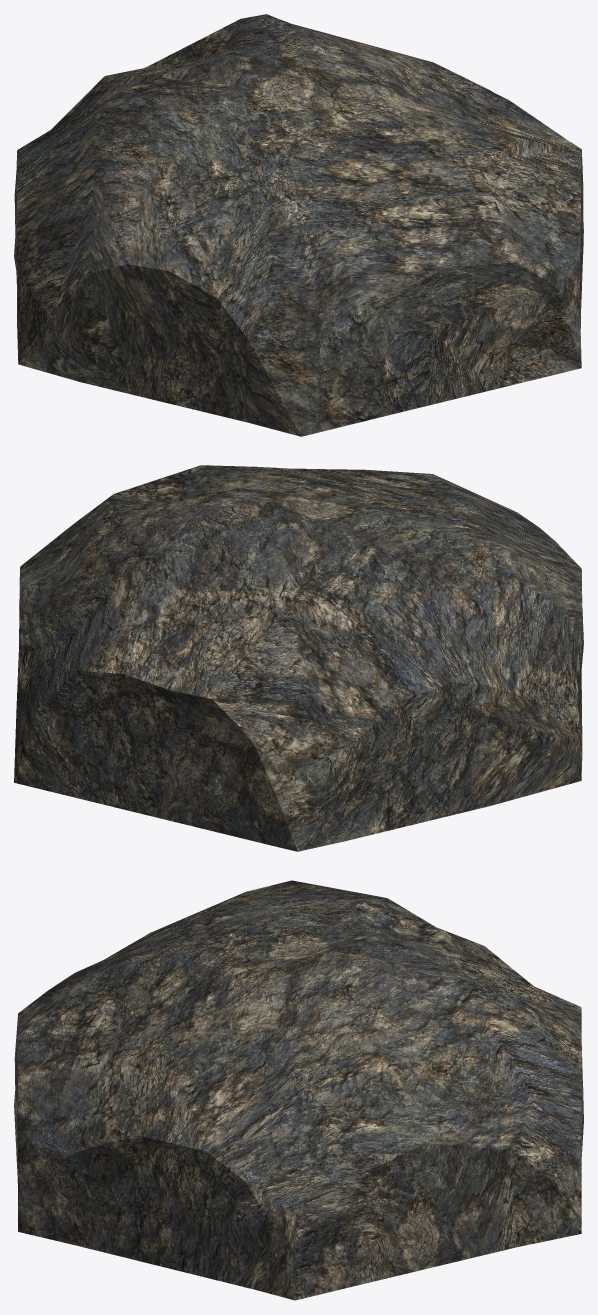
File: Cavehexagon.fbx
3 views of the same model, one above another, from view 1: azimuth 30°, elevation 25°; view 2: azimuth 150°, elevation 25°; view 3: azimuth 270°, elevation 25° (orthographic).
Visible parts, largest first — view 1: main, door4, door5; view 2: main, door1, door6; view 3: main, door3, door2.
Part boxes in pixels (box(x1,y1,x2,y2)): main: box(17, 14, 583, 436); door4: box(301, 263, 581, 436); door5: box(18, 264, 300, 436); main: box(14, 465, 582, 851); door1: box(14, 671, 297, 851); door6: box(298, 682, 581, 851); main: box(18, 880, 581, 1299); door3: box(18, 1137, 294, 1300); door2: box(295, 1143, 581, 1300).
Size of the model in its own units: 200 by 75.19 by 176.
